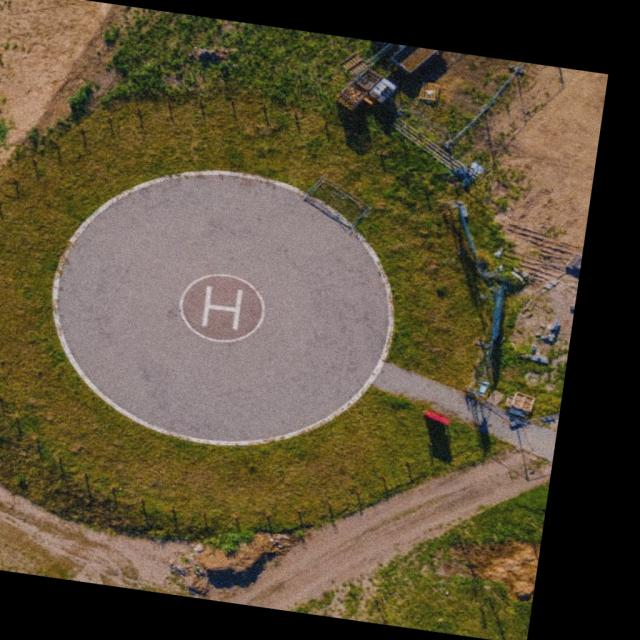helipad: (174, 267, 268, 345)
